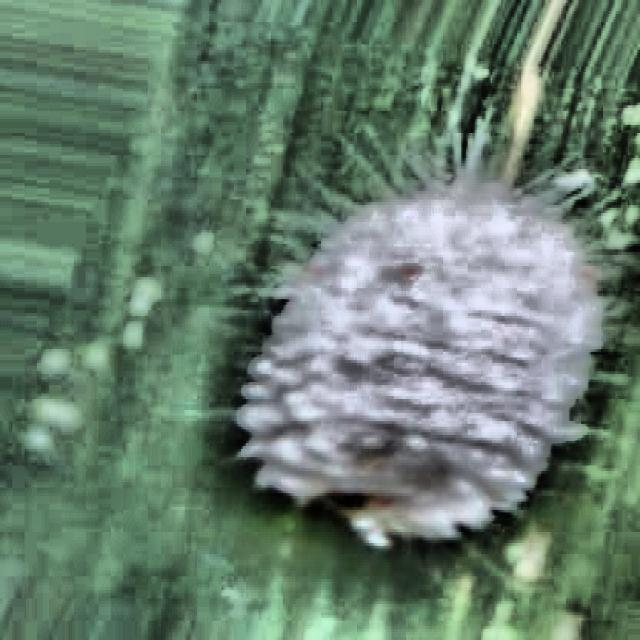Mealy-bug: (184, 38, 640, 637)
